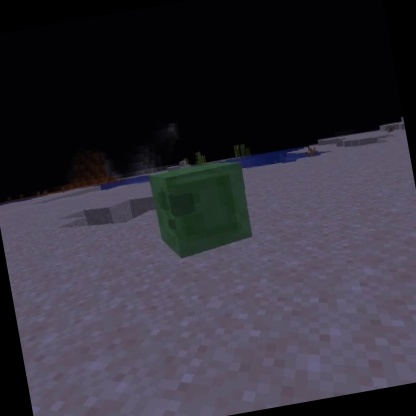slime: (143, 155, 260, 265)
